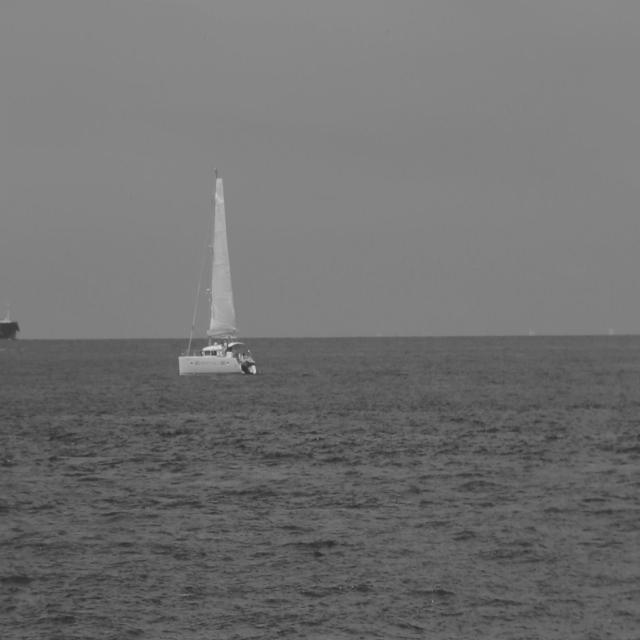boat: (178, 166, 258, 377)
ship: (0, 299, 14, 355)
